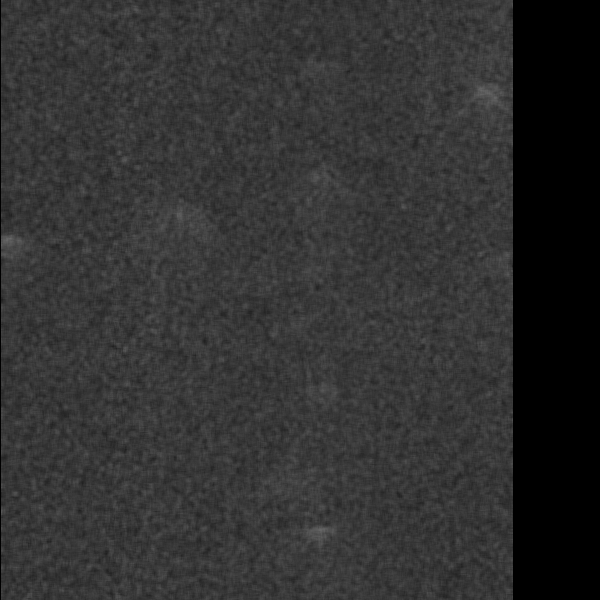spark: (304, 520, 336, 570), (459, 79, 505, 109), (167, 197, 192, 251), (1, 233, 13, 278), (500, 227, 518, 248)
